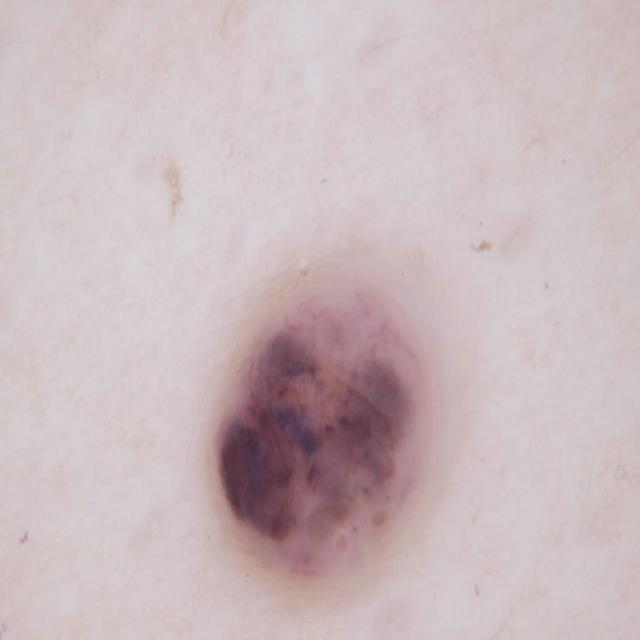Carcinoma: (173, 235, 454, 640)
